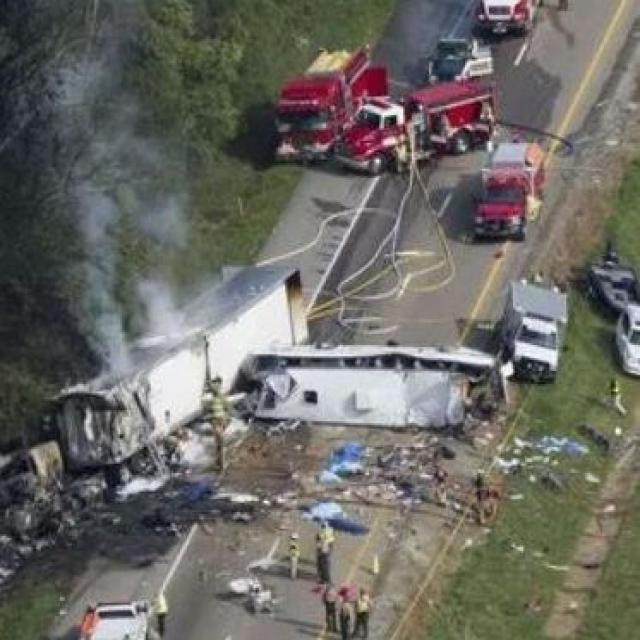traffic_incident: (50, 258, 300, 456), (230, 340, 499, 430)
